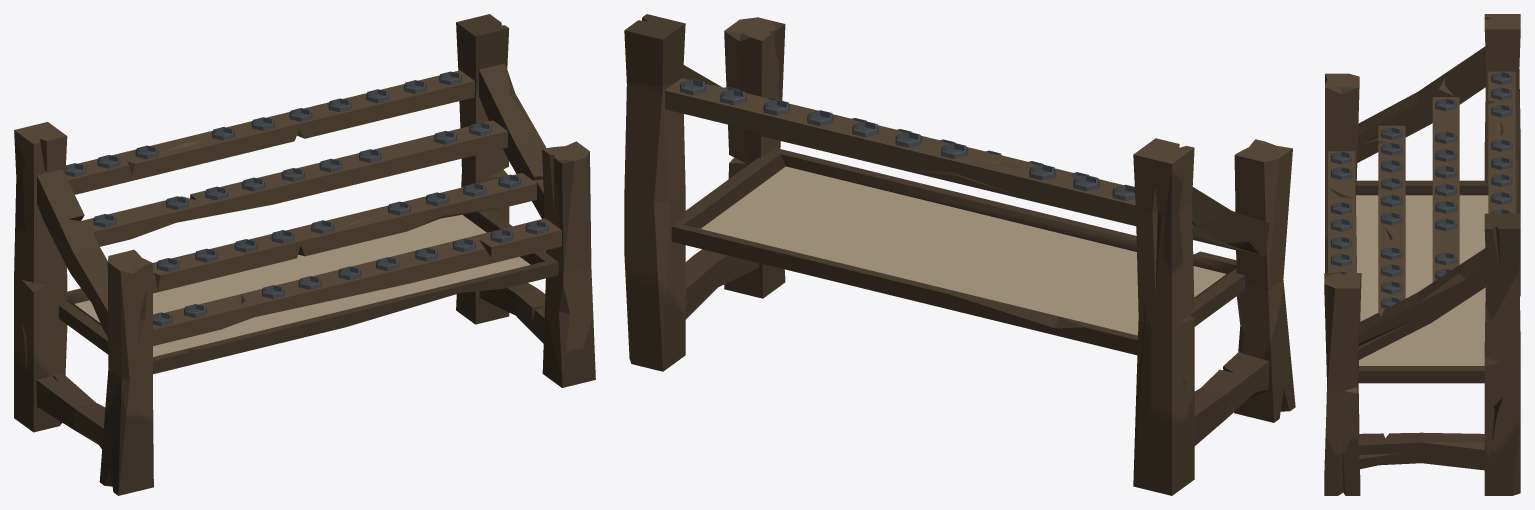
The model's file is crypt_candle_rack.gltf.
The picture shows the model from 3 angles, left to right: view 1: azimuth 30°, elevation 25°; view 2: azimuth 150°, elevation 25°; view 3: azimuth 270°, elevation 25°; orthographic projection. The views are drawn at different scales.
Parts seen in each view (by area): view 1: crypt_candle_rack; view 2: crypt_candle_rack; view 3: crypt_candle_rack.
Boxes of the visible parts, bbox=[...] form: crypt_candle_rack: bbox=[14, 14, 595, 495]; crypt_candle_rack: bbox=[624, 14, 1295, 495]; crypt_candle_rack: bbox=[1324, 14, 1520, 495].
Bounding box in the file's own units: 2.15 × 1.24 × 0.8288.
Materials: 1 (1 with a texture image).
